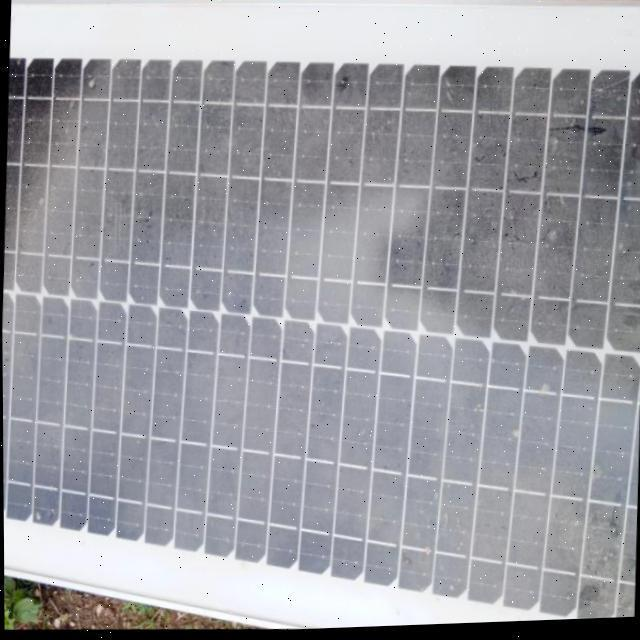Anomaly Solar Panel: (0, 9, 640, 576)
Surface Contaminant: (2, 39, 640, 555)
